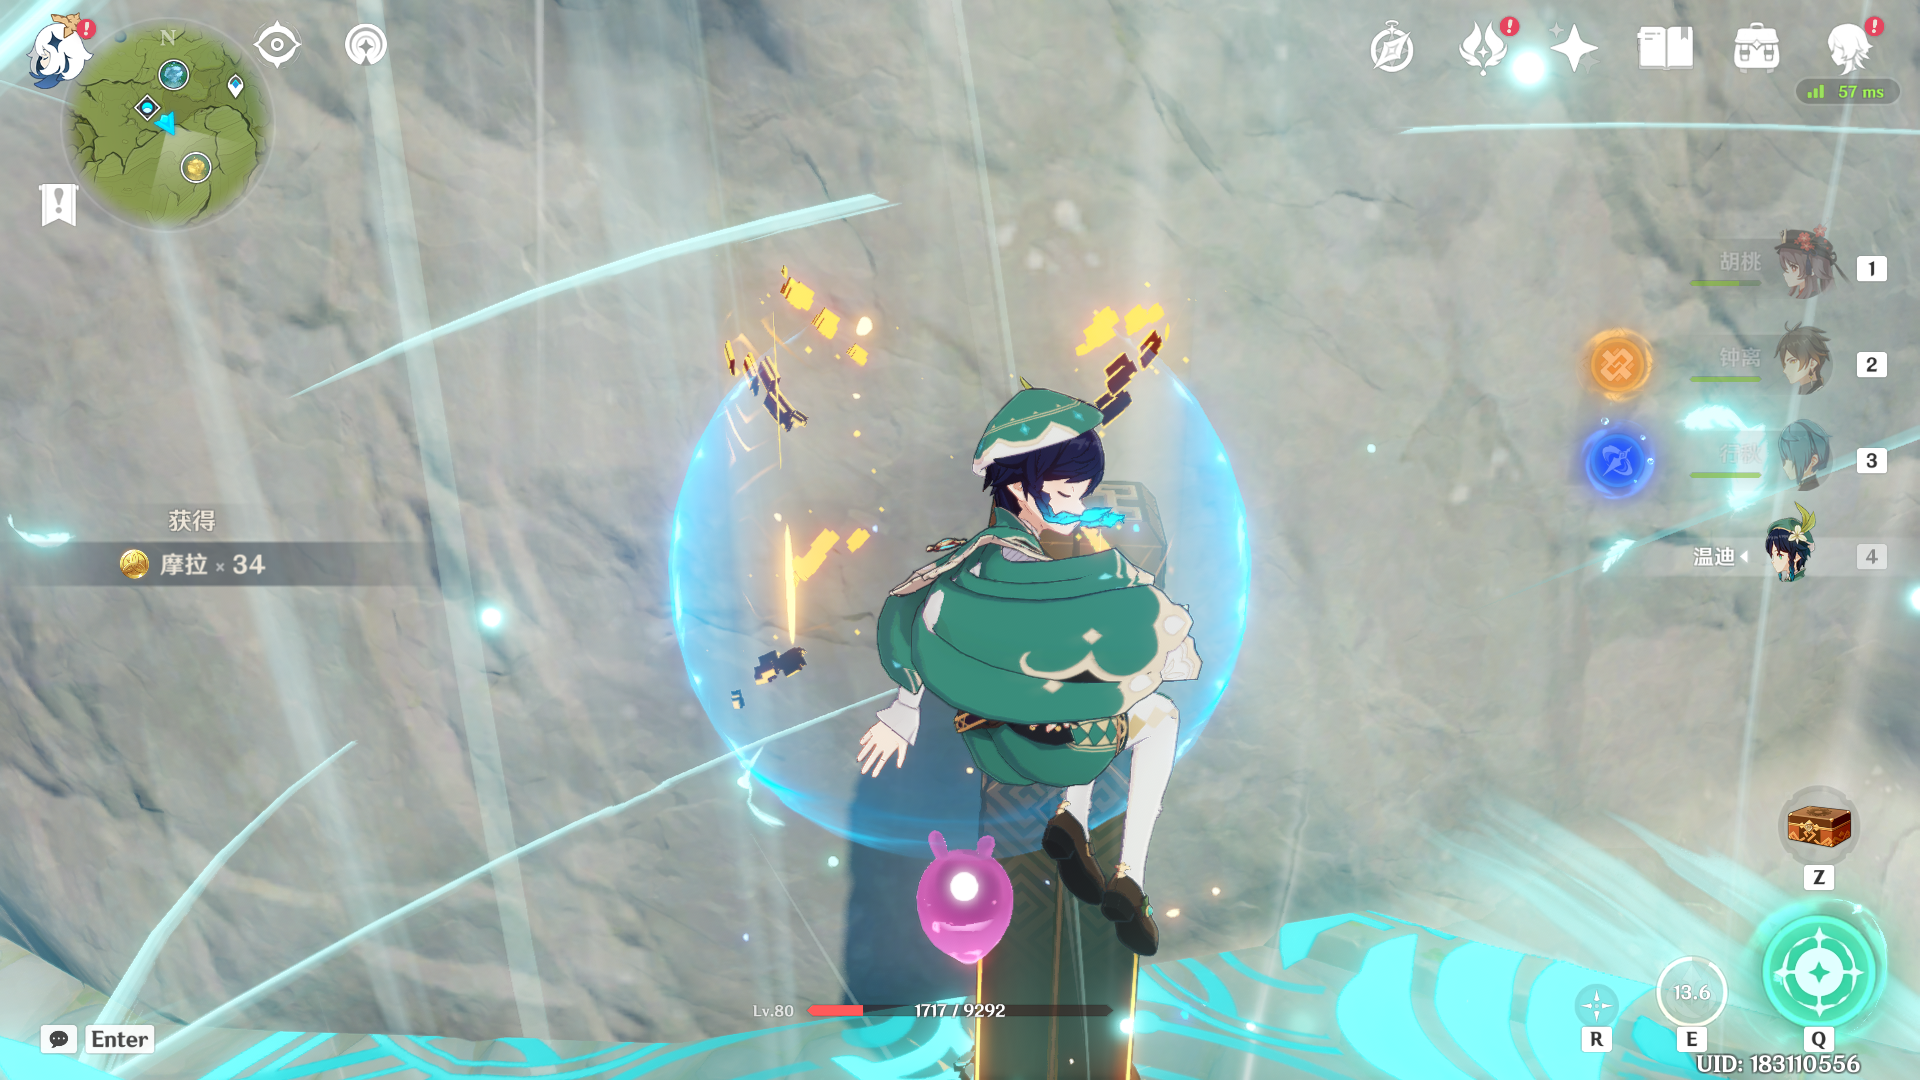character: (771, 375, 1255, 956)
